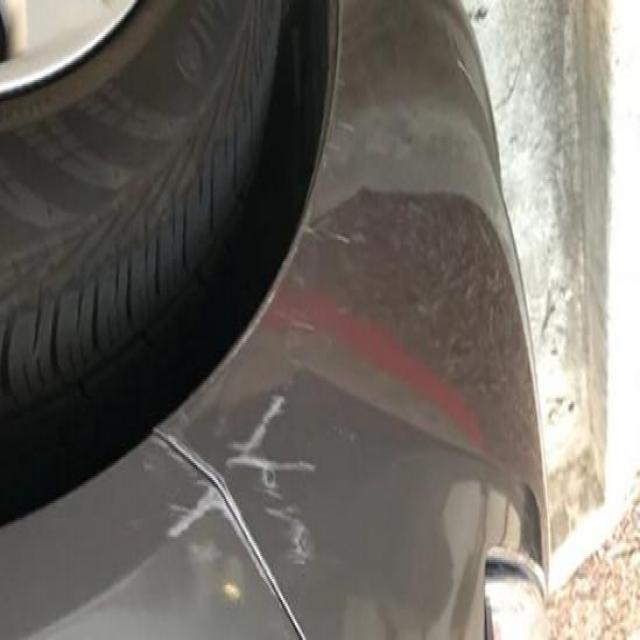scratch: (105, 390, 344, 580)
